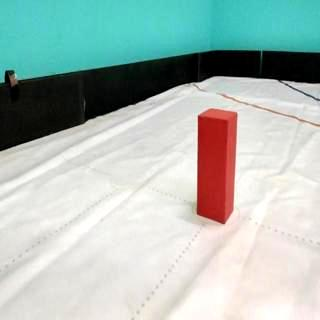redbox: (198, 107, 238, 226)
